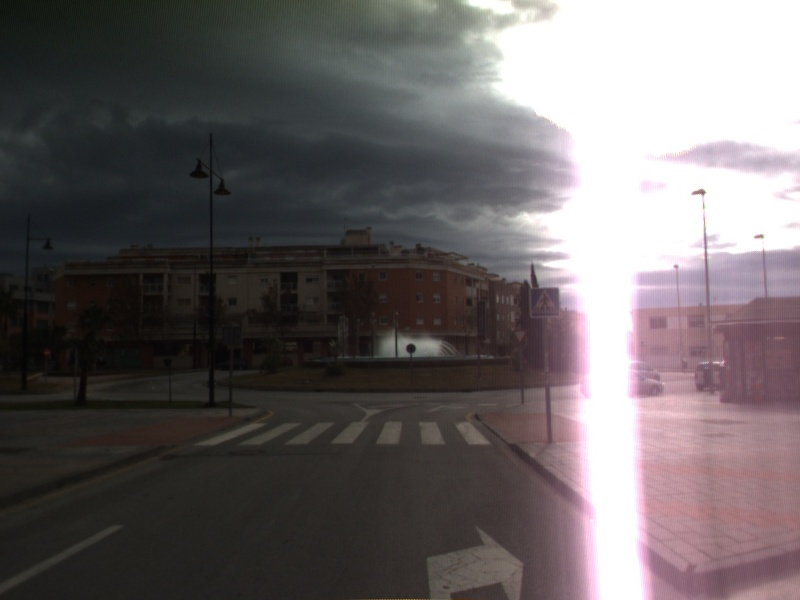RIGHT: (423, 520, 526, 600)
